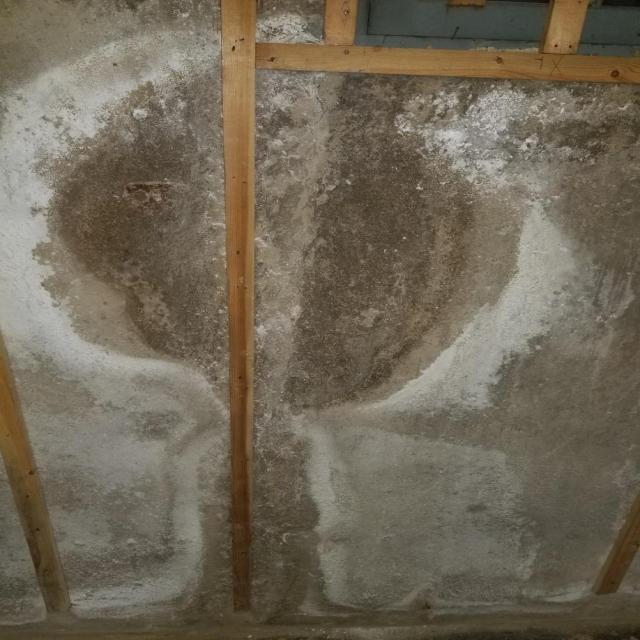Water_Leakage: (14, 5, 620, 640)
